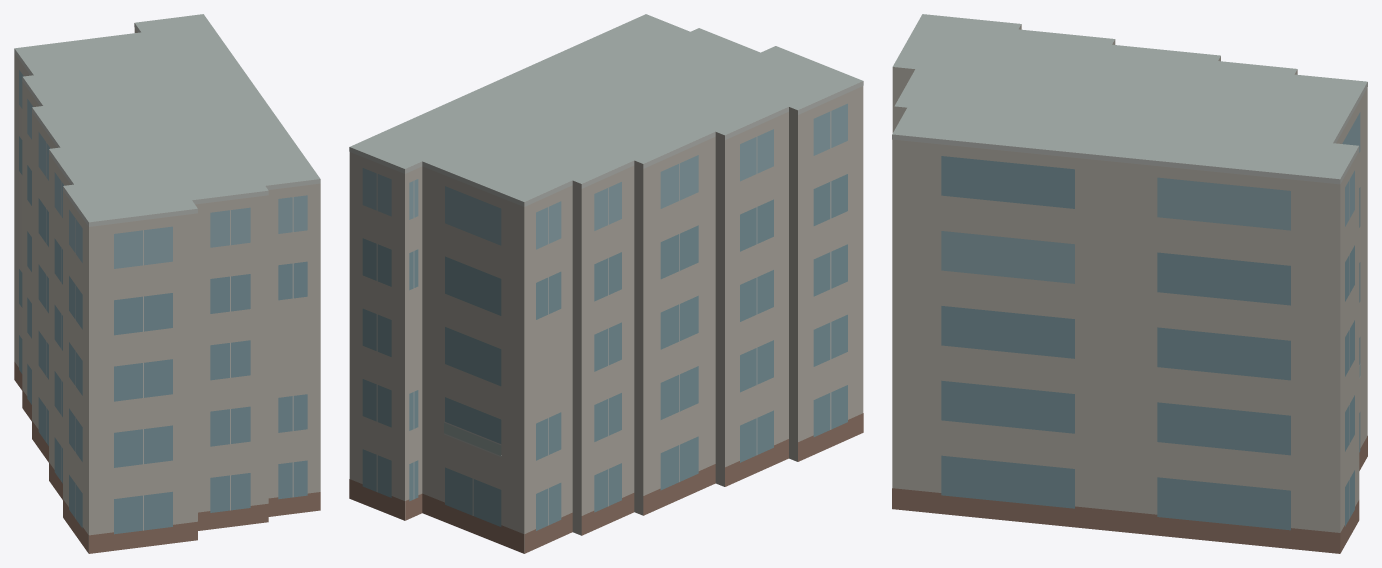
File: survey-upis-32768153.glb
3 renders of one model, left to right at view 1: azimuth 30°, elevation 25°; view 2: azimuth 150°, elevation 25°; view 3: azimuth 270°, elevation 25°, orthographic. The views are drawn at different scales.
Visible parts, largest first — view 1: survey-upis-32768153.tmp; view 2: survey-upis-32768153.tmp; view 3: survey-upis-32768153.tmp.
Part boxes in pixels (x1,y1,x2,y2): survey-upis-32768153.tmp: (14, 14, 320, 553); survey-upis-32768153.tmp: (349, 14, 863, 553); survey-upis-32768153.tmp: (892, 14, 1367, 553).
Bounding box in the file's own units: 16.66 × 17.6 × 20.26.
